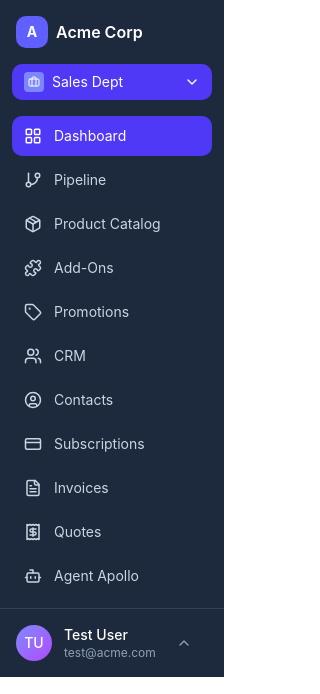
Test: SalesSidebar › should show department links when dropdown is opened
Step 1. Click the button "Sales Dept" → {"x": 112, "y": 82}, box 12,64 -> 212,100
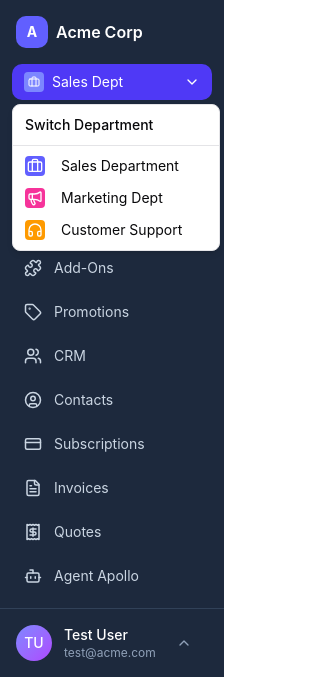
Expected: the menu item "Sales Department" is shown, 25,156 -> 179,176
Expected: the menu item "Marketing Dept" is shown, 25,188 -> 163,208
Expected: the menu item "Customer Support" is shown, 25,220 -> 182,240
